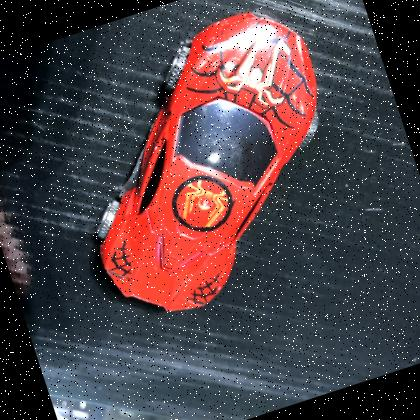Car: (34, 0, 384, 339)
